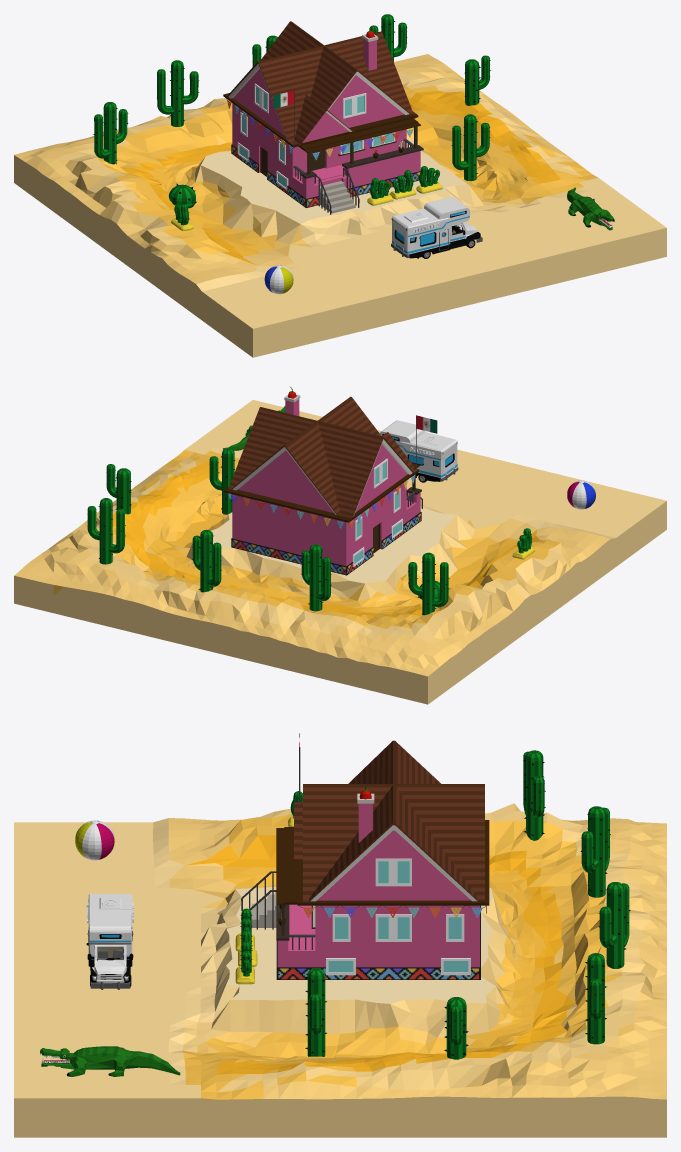
The picture shows the model from 3 angles, top to bottom: view 1: azimuth 30°, elevation 25°; view 2: azimuth 150°, elevation 25°; view 3: azimuth 270°, elevation 25°; orthographic projection. The views are drawn at different scales.
Parts seen in each view (by area): view 1: Cube.001, Cube.1005, VEHICLES_CAMPER, Cylinder.044, Cylinder.037, Cylinder.045, ANIMAL_COCODRILO, Cylinder.038, Cylinder.042, OBJRANDOM_BEACHBALL, Cylinder.039, Cylinder.041; view 2: Cube.001, Cube.1005, VEHICLES_CAMPER, Cylinder.042, Cylinder.045, Cylinder.044, Cylinder.043, Cylinder.037, Cylinder.038, OBJRANDOM_BEACHBALL; view 3: Cube.001, Cube.1005, VEHICLES_CAMPER, ANIMAL_COCODRILO, Cylinder.043, Cylinder.044, Cylinder.045, Cylinder.037, Cylinder.042, Cylinder.038, OBJRANDOM_BEACHBALL, Cylinder.041.
Part boxes in pixels (box(x1,y1,x2,y2)): Cube.001: box(14, 54, 666, 357); Cube.1005: box(223, 21, 423, 214); VEHICLES_CAMPER: box(391, 196, 482, 258); Cylinder.044: box(157, 60, 199, 126); Cylinder.037: box(451, 114, 490, 181); Cylinder.045: box(93, 102, 128, 164); ANIMAL_COCODRILO: box(567, 187, 614, 230); Cylinder.038: box(464, 55, 490, 105); Cylinder.042: box(369, 14, 407, 61); OBJRANDOM_BEACHBALL: box(264, 265, 293, 294); Cylinder.039: box(367, 178, 393, 205); Cylinder.041: box(416, 166, 442, 193); Cube.001: box(14, 400, 666, 704); Cube.1005: box(224, 386, 437, 575); VEHICLES_CAMPER: box(379, 420, 458, 482); Cylinder.042: box(87, 498, 125, 564); Cylinder.045: box(408, 552, 449, 615); Cylinder.044: box(301, 544, 331, 611); Cylinder.043: box(192, 529, 221, 592); Cylinder.037: box(209, 448, 239, 514); Cylinder.038: box(106, 464, 131, 514); OBJRANDOM_BEACHBALL: box(567, 480, 595, 509); Cube.001: box(14, 803, 666, 1137); Cube.1005: box(241, 733, 489, 979); VEHICLES_CAMPER: box(86, 894, 133, 989); ANIMAL_COCODRILO: box(40, 1046, 180, 1076); Cylinder.043: box(598, 882, 630, 968); Cylinder.044: box(580, 806, 610, 897); Cylinder.045: box(523, 750, 545, 840); Cylinder.037: box(305, 968, 326, 1056); Cylinder.042: box(585, 953, 606, 1044); Cylinder.038: box(444, 997, 468, 1059); OBJRANDOM_BEACHBALL: box(75, 820, 114, 860); Cylinder.041: box(235, 941, 254, 984).
Bounding box in the file's own units: 4002 × 1721 × 4001.
Materials: 68 (4 with a texture image).
